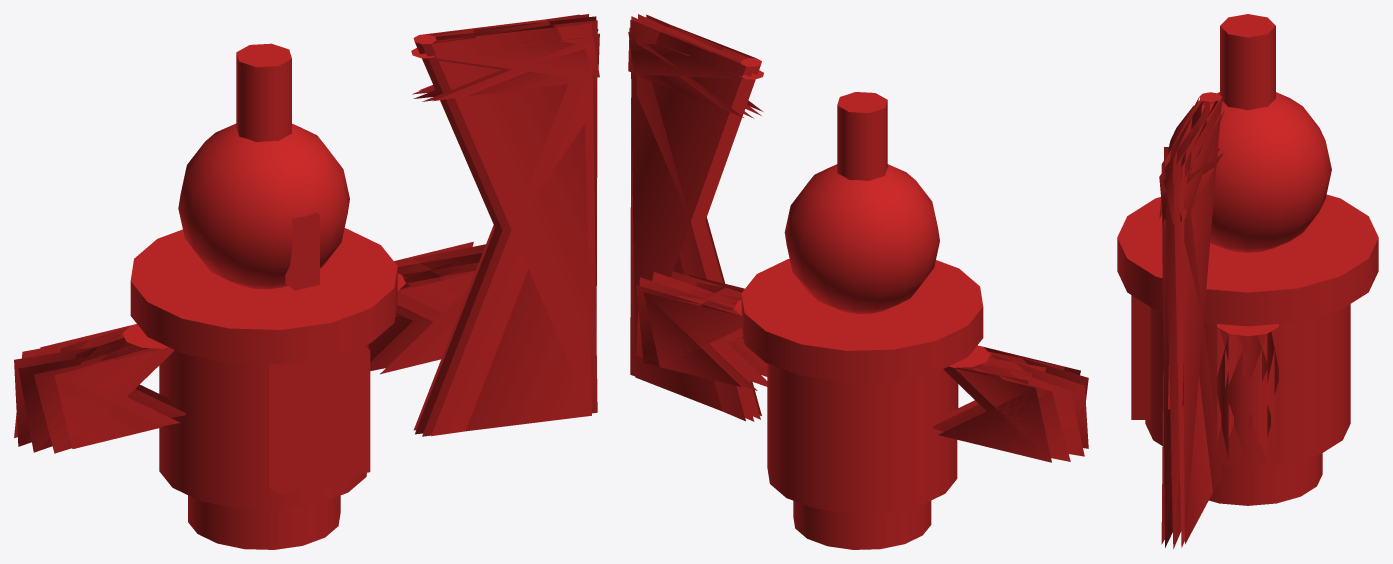
The model's file is english_white_knight.obj.
The picture shows the model from 3 angles, left to right: view 1: azimuth 30°, elevation 25°; view 2: azimuth 150°, elevation 25°; view 3: azimuth 270°, elevation 25°; orthographic projection. The views are drawn at different scales.
Parts seen in each view (by area): view 1: english_white_knight; view 2: english_white_knight; view 3: english_white_knight.
Part boxes in pixels (bbox=[...]): english_white_knight: bbox=[14, 14, 599, 549]; english_white_knight: bbox=[628, 14, 1088, 549]; english_white_knight: bbox=[1117, 14, 1378, 549].
Size of the model in its own units: 1.3 by 1.06 by 0.56.
Materials: 1 (1 with a texture image).
